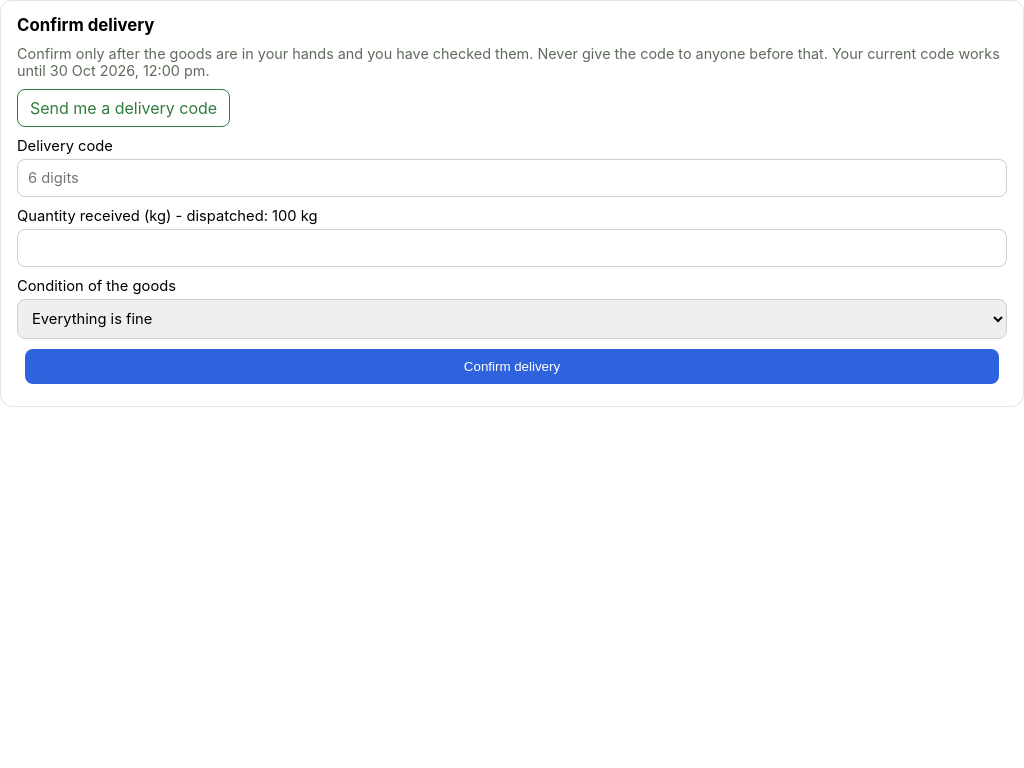
Test: damage needs a description before anything is sent
Type "123456" into the field labelled "Delivery code" at [512, 178], box 17,159 -> 1007,197
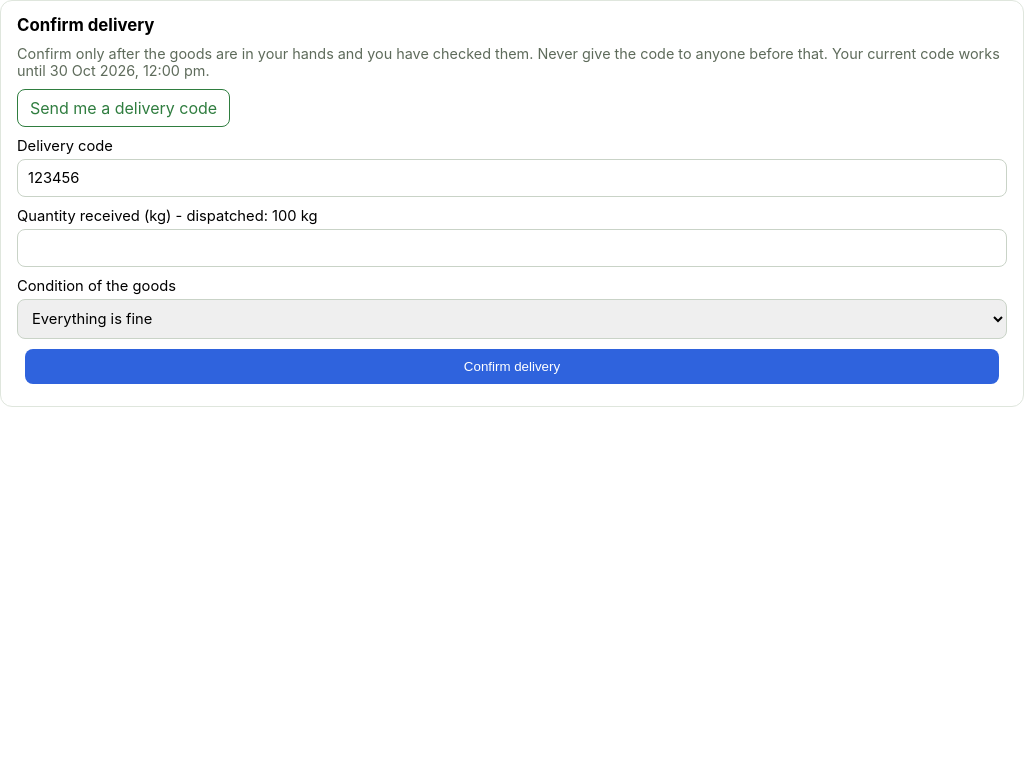
Type "90" into the number field labelled "Quantity received (kg) - dispatched: 100 kg" at [512, 248], box 17,229 -> 1007,267
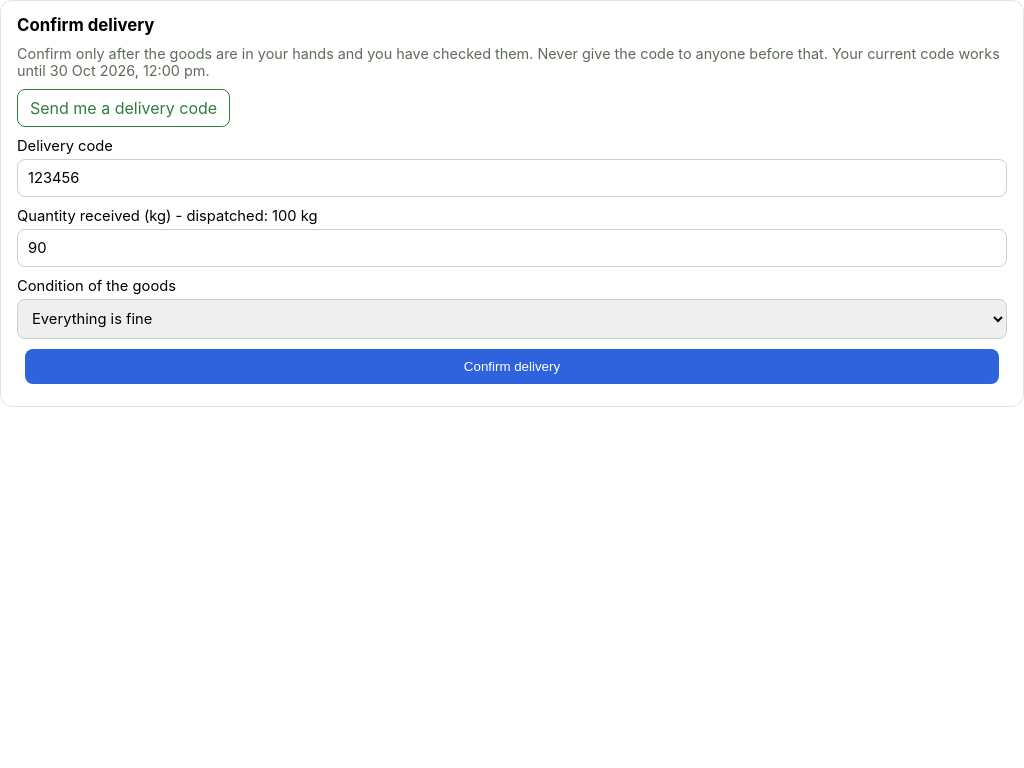
Select "Some goods are damaged" in the dropdown labelled "Condition of the goods" at [512, 319], box 17,299 -> 1007,339
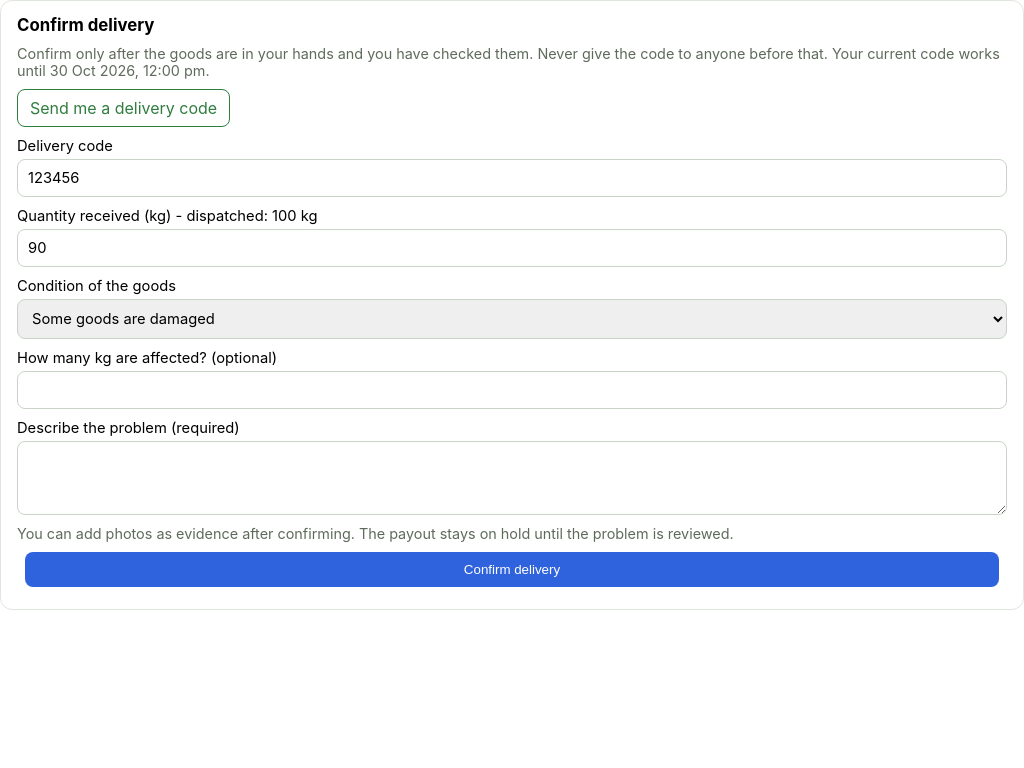
Click the button "Confirm delivery" at [512, 570], box 25,552 -> 999,587
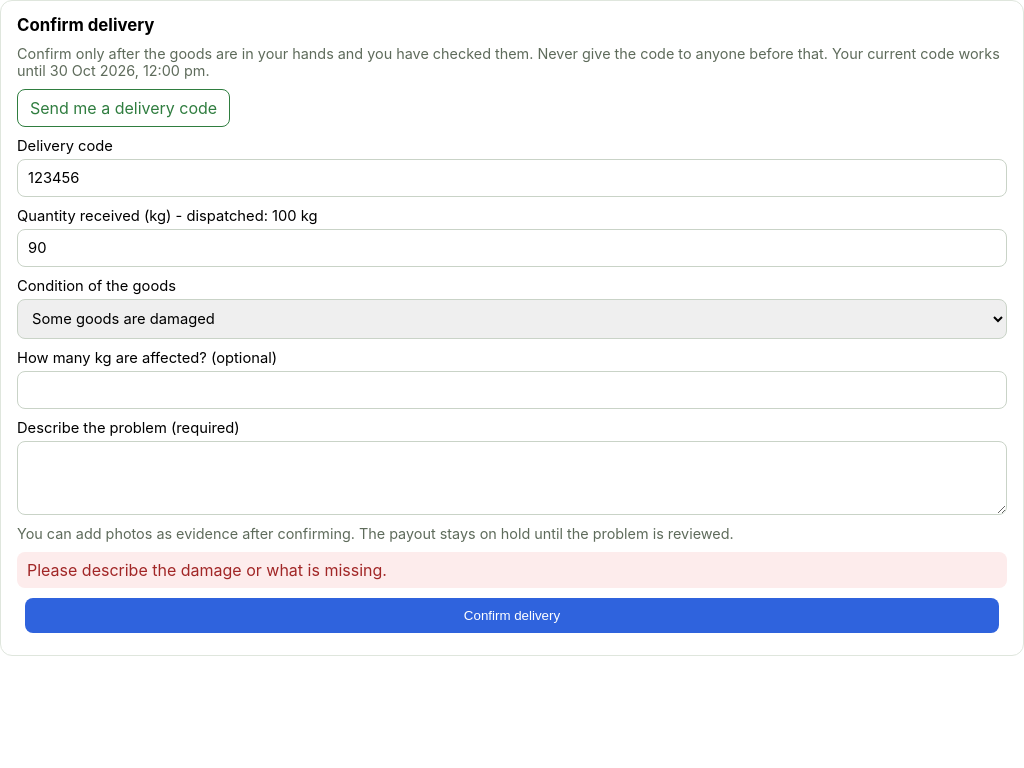
Check: the message shows "describe the damage", box 27,560 -> 387,580
